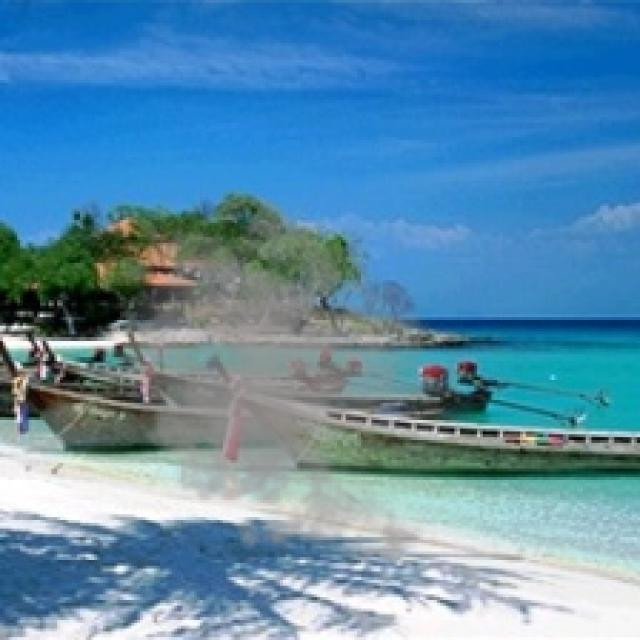Smoke: (94, 194, 489, 572)
